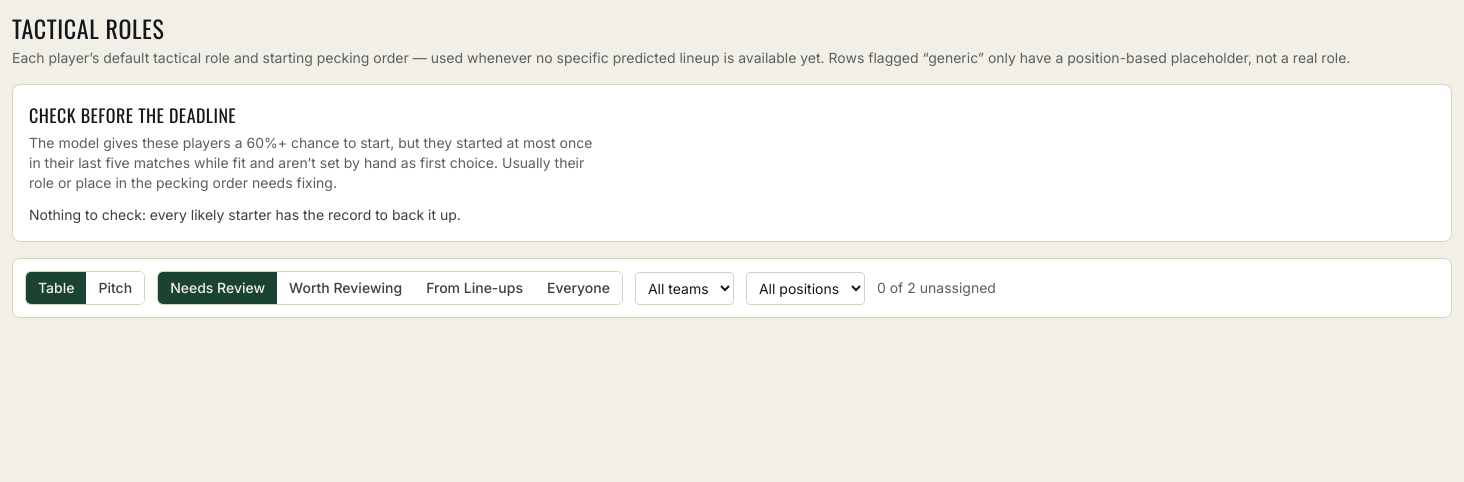
Test: TacticalRolesAdminPage › From Line-ups shows suggested main positions; Accept swaps the old main role into Also plays
The width and height of the screenshot is (1464, 482).
Click the button "From Line-ups".
click(474, 288)  # box [414,272,535,304]
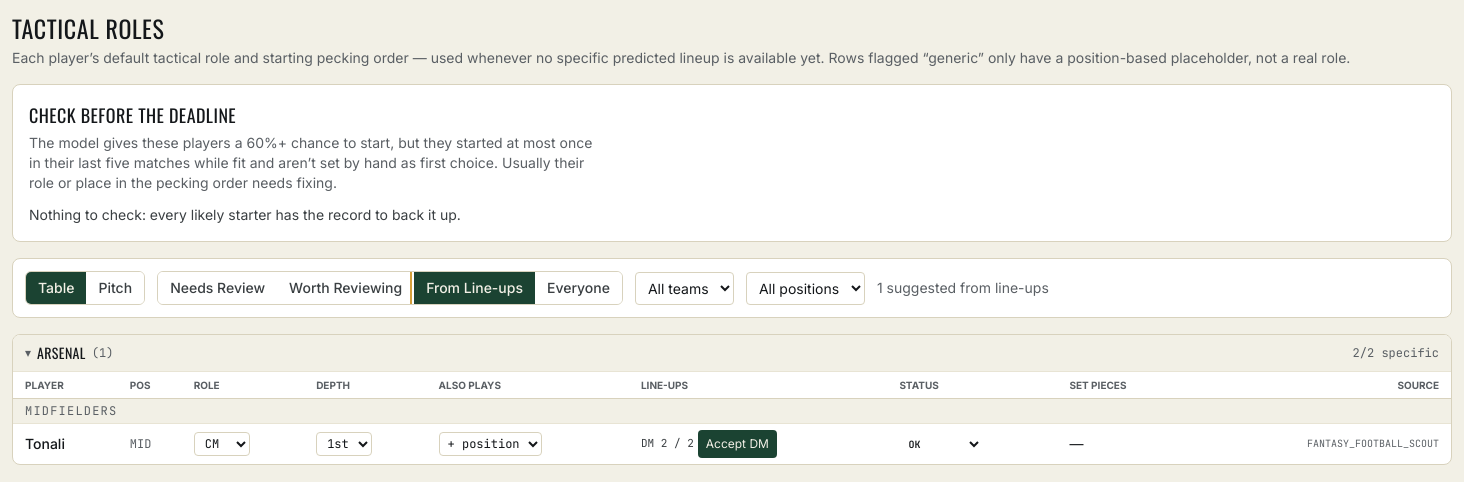
Now the text "Tonali" is shown, box [13,424,122,464]
Now the text "1 suggested from line-ups" is shown, box [877,278,1049,298]
Click the button "Accept DM".
click(737, 444)  # box [698,430,777,458]
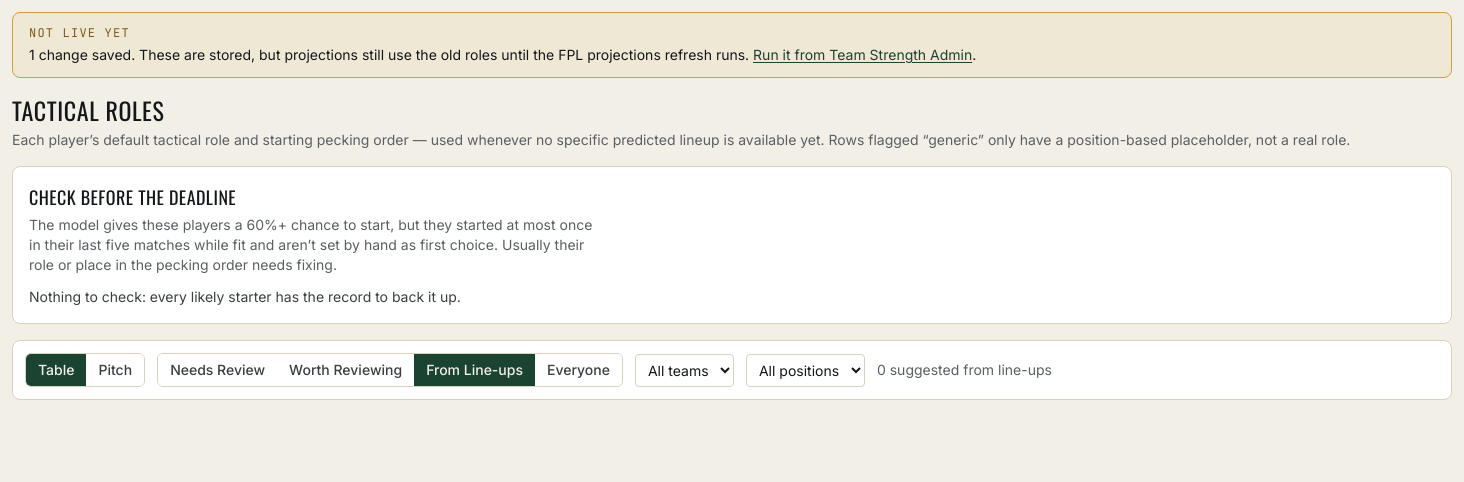
Now the text "0 suggested from line-ups" is shown, box [877,360,1052,380]
